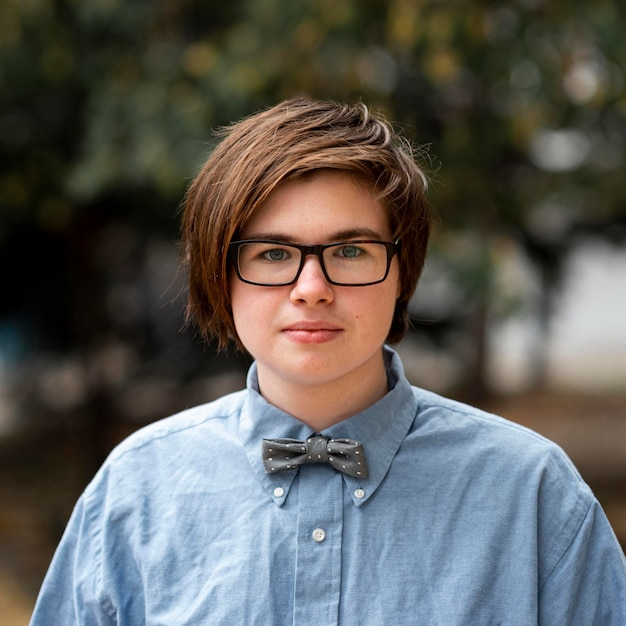teen: (193, 92, 424, 417)
